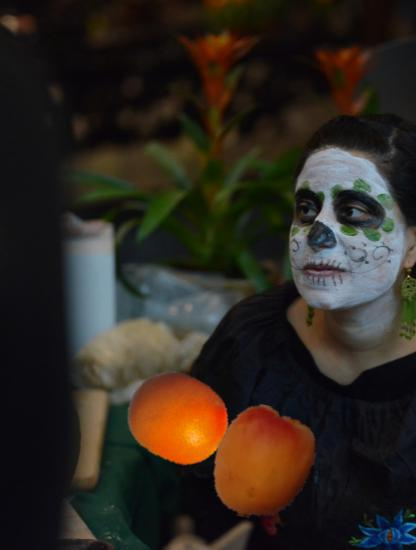Apricot: (208, 406, 322, 520)
Grapefruit: (126, 367, 229, 470)
